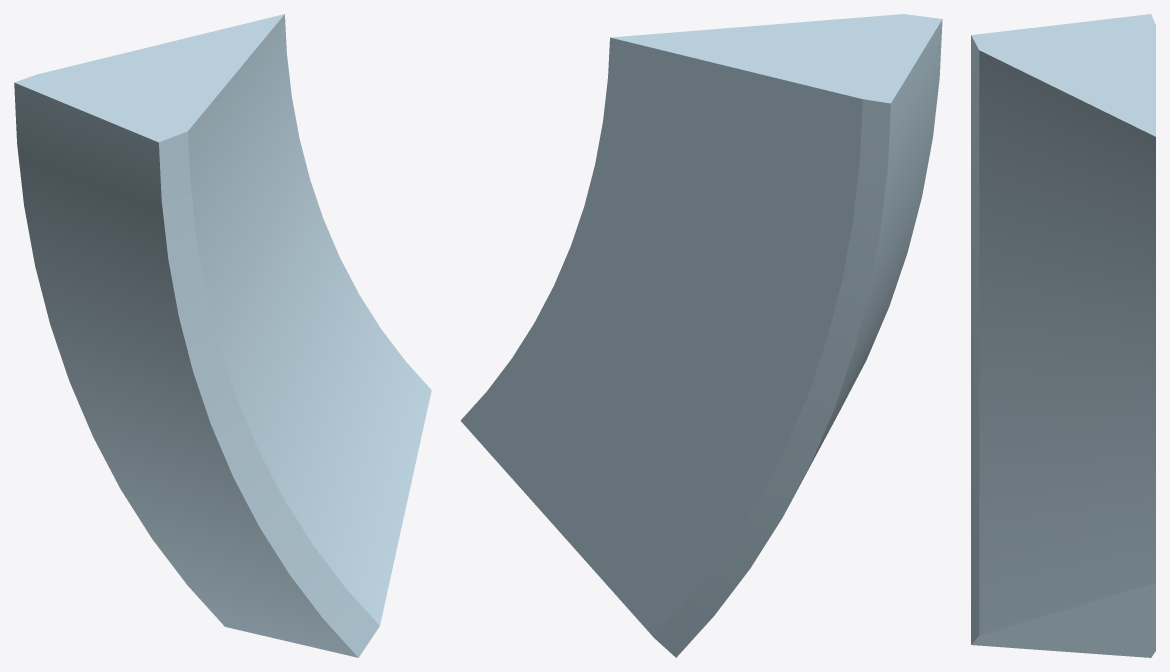
The model's file is Sub_8_Cell_3_3.gltf.
The picture shows the model from 3 angles, left to right: view 1: azimuth 30°, elevation 25°; view 2: azimuth 150°, elevation 25°; view 3: azimuth 270°, elevation 25°; orthographic projection. The views are drawn at different scales.
Parts seen in each view (by area): view 1: Sub_8_Cell_3_3; view 2: Sub_8_Cell_3_3; view 3: Sub_8_Cell_3_3.
Boxes of the visible parts, <box> form: Sub_8_Cell_3_3: <box>14,14,431,657</box>; Sub_8_Cell_3_3: <box>460,14,942,657</box>; Sub_8_Cell_3_3: <box>971,14,1155,657</box>.
Bounding box in the file's own units: 0.0875 × 0.1186 × 0.0362.
